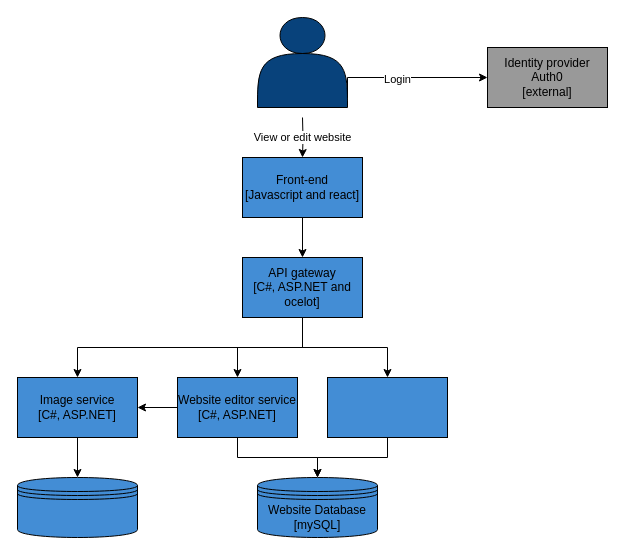
This 625x555 diagram has some shape labels left out. Each missing label, with the centre of its shape:
"Image Database [mySQL]" belongs at point (77, 507).
"User" belongs at point (302, 62).
"Website view service [C#, ASP.NET]" belongs at point (387, 407).
